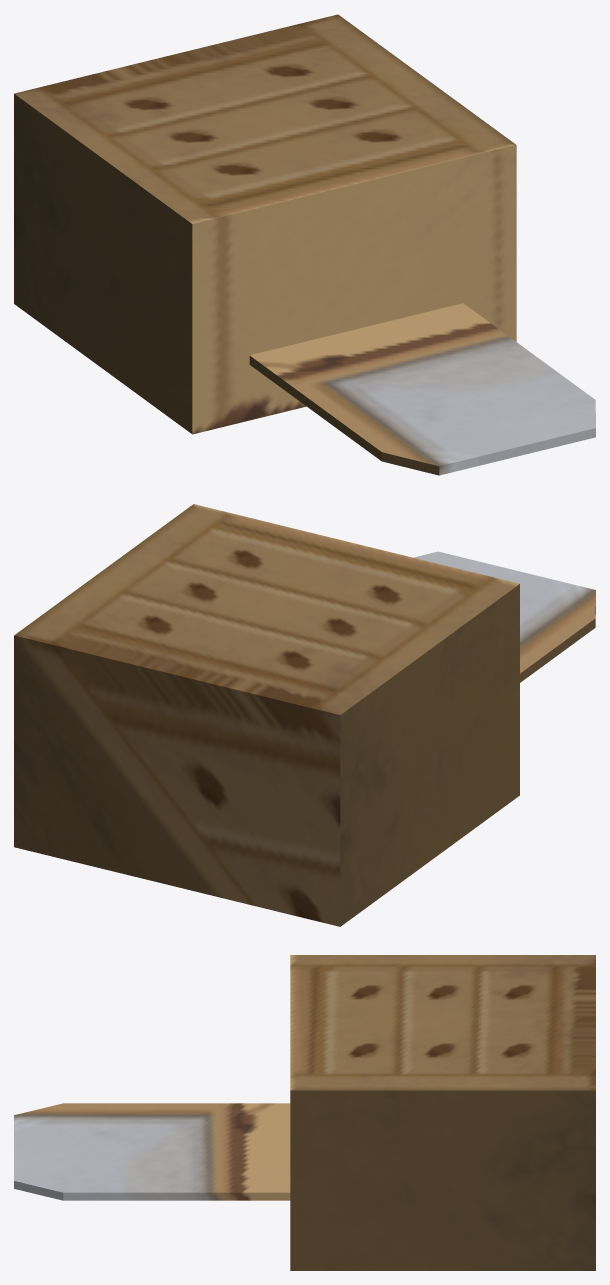
File: pz_house_drawers_mirror.obj
3 views of the same model, one above another, from view 1: azimuth 30°, elevation 25°; view 2: azimuth 150°, elevation 25°; view 3: azimuth 270°, elevation 25° (orthographic). The views are drawn at different scales.
Parts seen in each view (by area): view 1: pz_house_drawers_mirror_|_1_corpo_gavetas, pz_house_drawers_mirror_|_2_espelho; view 2: pz_house_drawers_mirror_|_1_corpo_gavetas, pz_house_drawers_mirror_|_2_espelho; view 3: pz_house_drawers_mirror_|_1_corpo_gavetas, pz_house_drawers_mirror_|_2_espelho.
Part boxes in pixels (<box>): pz_house_drawers_mirror_|_1_corpo_gavetas: <box>14,14,516,434</box>; pz_house_drawers_mirror_|_2_espelho: <box>249,303,595,475</box>; pz_house_drawers_mirror_|_1_corpo_gavetas: <box>14,504,519,926</box>; pz_house_drawers_mirror_|_2_espelho: <box>414,551,595,682</box>; pz_house_drawers_mirror_|_1_corpo_gavetas: <box>290,955,595,1270</box>; pz_house_drawers_mirror_|_2_espelho: <box>14,1103,290,1200</box>.
Bounding box in the file's own units: 0.9098 × 0.5643 × 1.65.
1 material, 1 textured.
